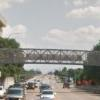Bridge: (1, 39, 91, 72)
